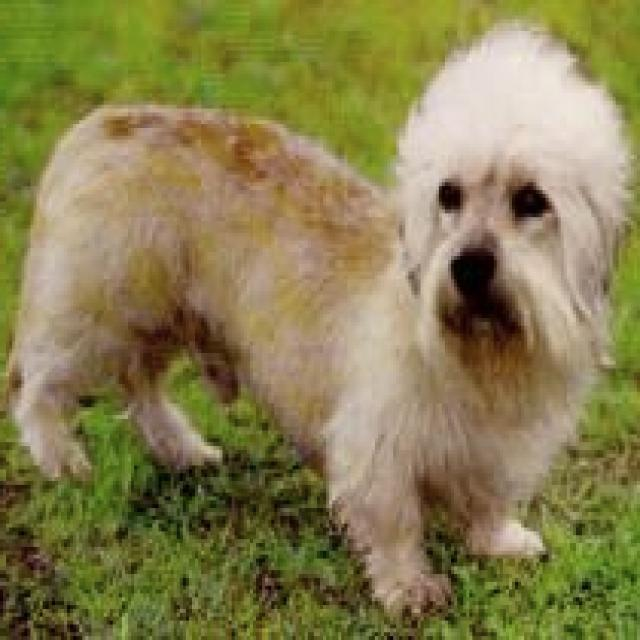dandie_dinmont: (6, 27, 634, 617)
